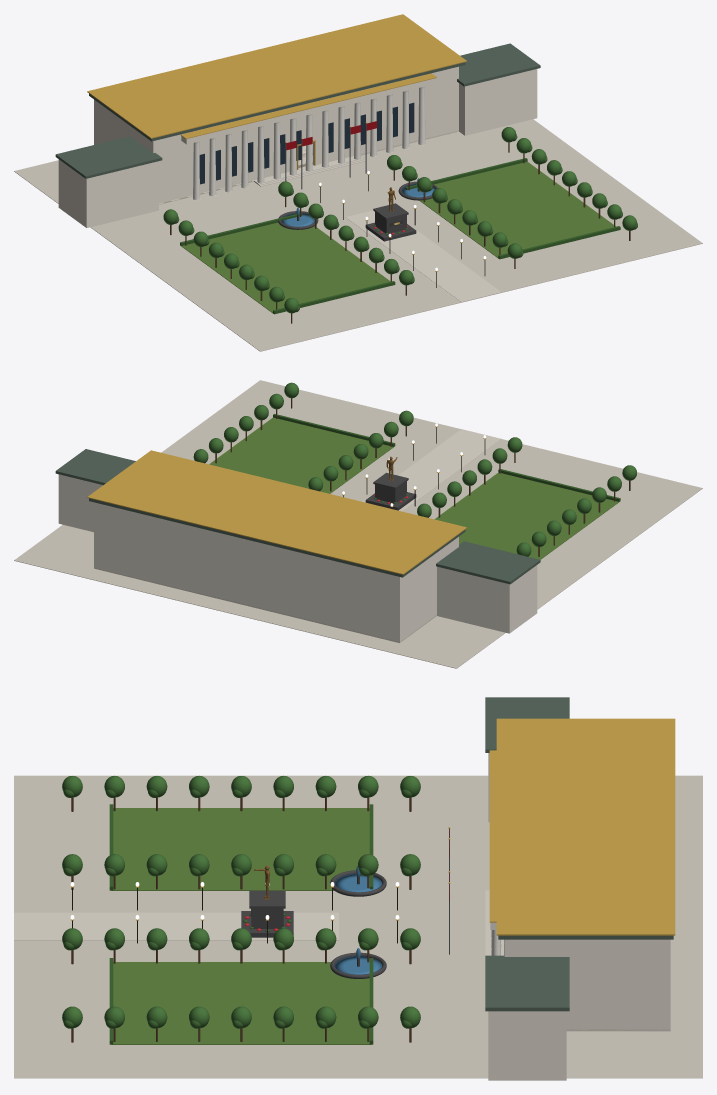
The model's file is map_Kumsusan Palace of the Sun.glb.
3 views of the same model, one above another, from view 1: azimuth 30°, elevation 25°; view 2: azimuth 150°, elevation 25°; view 3: azimuth 270°, elevation 25° (orthographic). The views are drawn at different scales.
Visible parts, largest first — view 1: Map, Ceiling; view 2: Map, Ceiling; view 3: Map, Ceiling.
Part boxes in pixels (x1,y1,x2,y2): Map: (14, 43, 702, 351); Ceiling: (87, 14, 466, 170); Map: (14, 380, 702, 668); Ceiling: (87, 450, 466, 607); Map: (14, 697, 702, 1080); Ceiling: (496, 718, 675, 939).
Bounding box in the file's own units: 113 × 17.51 × 106.
37 materials, 1 textured.
